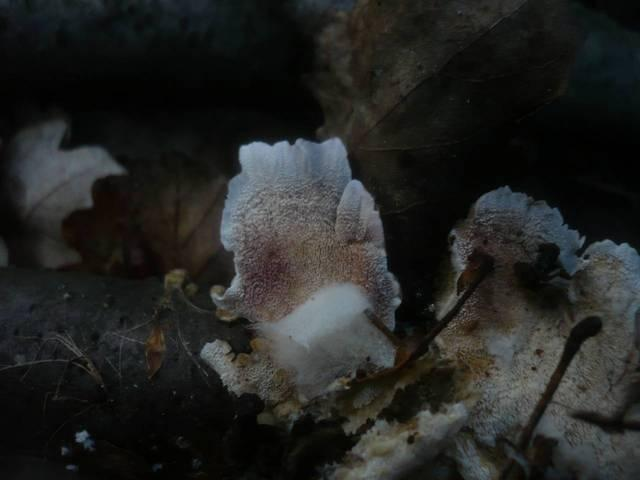Non-edible Mushroom: (210, 134, 404, 400)
